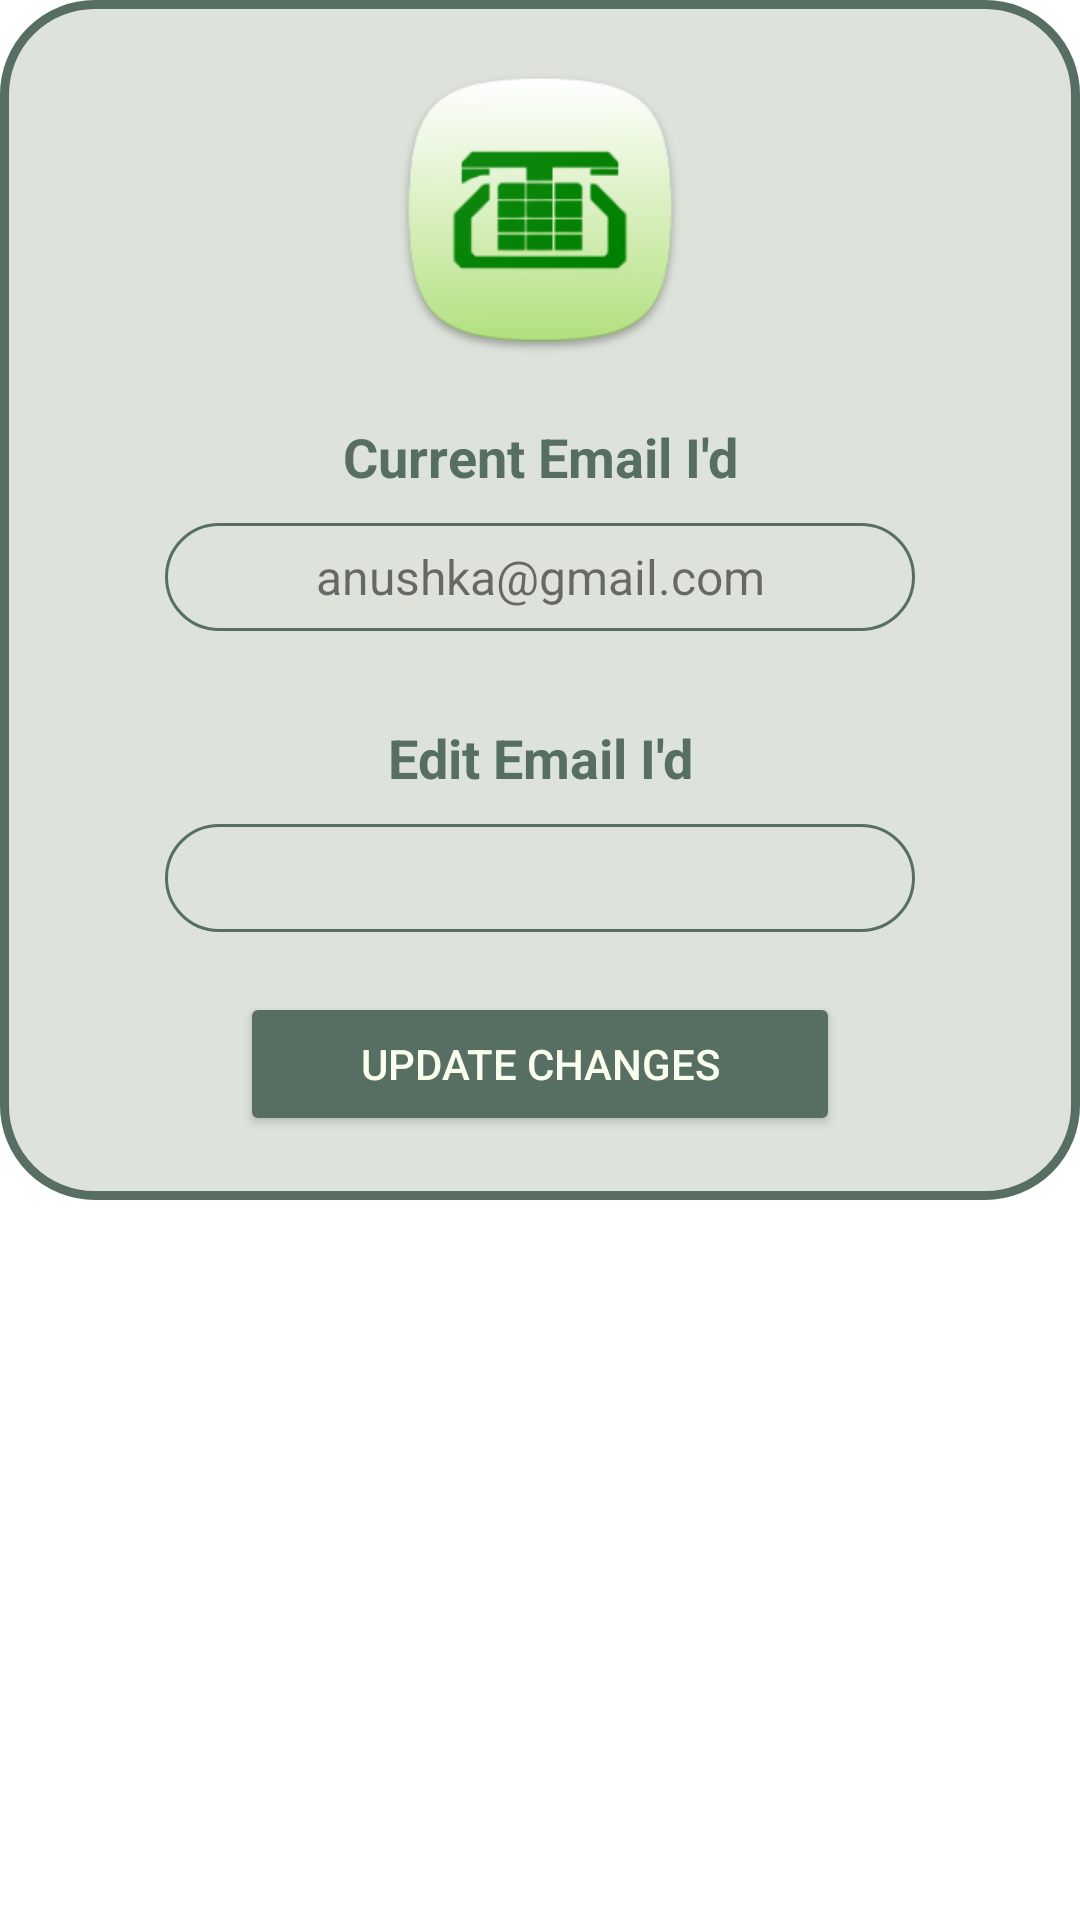

Screen size 1080×1920. Icon name, then its center in pixels as [x,y]:
mainicon: [540,213]
